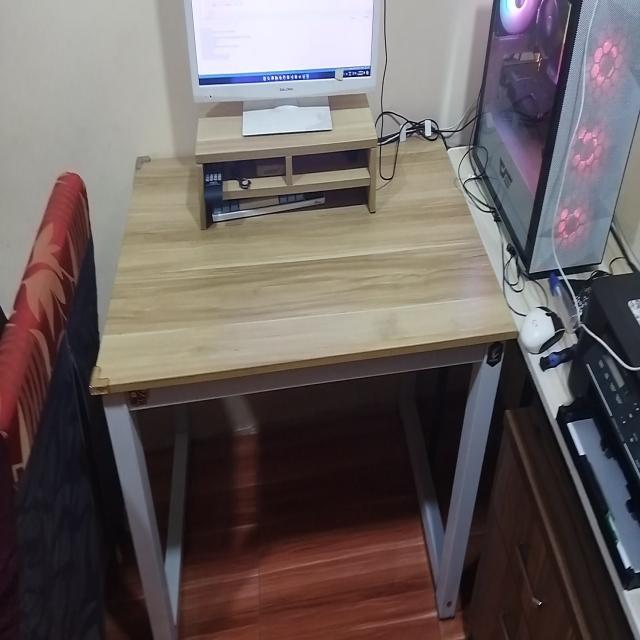table: (95, 130, 505, 640)
